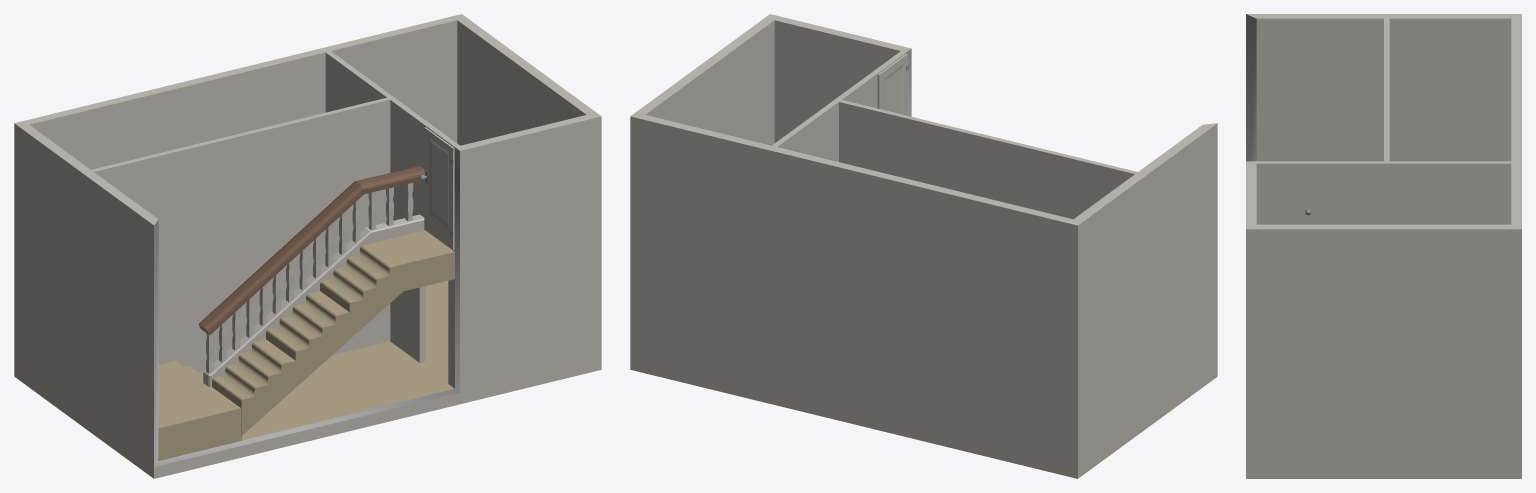
Rendered from houserooms.fbx.
3 renders of one model, left to right at view 1: azimuth 30°, elevation 25°; view 2: azimuth 150°, elevation 25°; view 3: azimuth 270°, elevation 25°, orthographic.
Parts seen in each view (by area): view 1: pCube4, stairs7, stairs, pCube19, stairs6, stairs5, pCube6, door1_livingroom1; view 2: pCube4, door1_livingroom1; view 3: pCube4.
Boxes of the visible parts, x1,y1,x2,y2 form: pCube4: (14,14,601,478); stairs7: (320,230,454,339); stairs: (158,361,242,460); pCube19: (198,166,425,335); stairs6: (266,291,349,387); stairs5: (212,339,295,436); pCube6: (203,214,425,387); door1_livingroom1: (424,127,454,250); pCube4: (630,14,1217,478); door1_livingroom1: (877,54,907,115); pCube4: (1246,14,1521,478).
Size of the model in its own units: 6.81 by 3.68 by 3.69.
